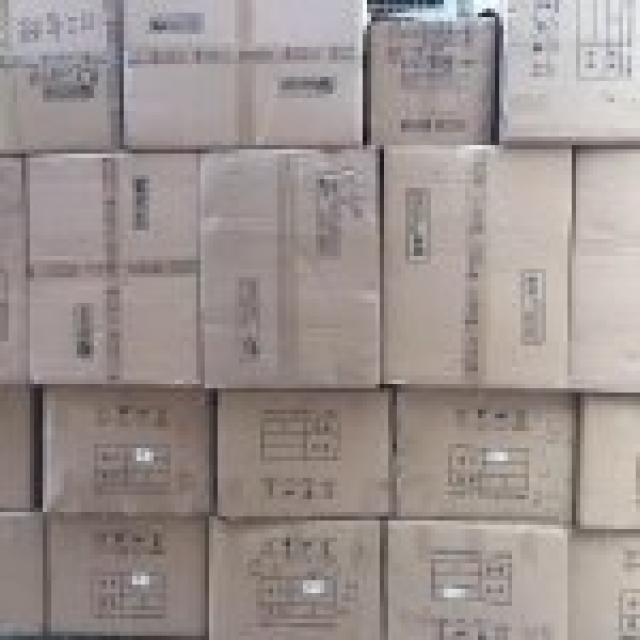box: (378, 147, 574, 390), (196, 148, 380, 386), (21, 153, 202, 388), (121, 3, 366, 152), (393, 384, 580, 525), (213, 386, 393, 517), (40, 384, 216, 517), (380, 517, 568, 636), (482, 1, 636, 145), (206, 516, 388, 634), (42, 512, 208, 634), (0, 3, 122, 154), (363, 19, 499, 146), (570, 145, 636, 393), (575, 389, 636, 530), (564, 529, 636, 636), (1, 154, 30, 387), (0, 508, 45, 634), (0, 384, 39, 510)
